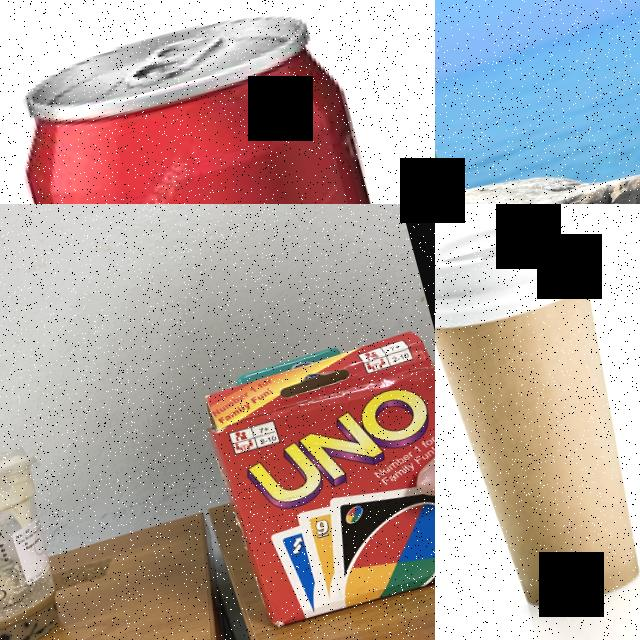can: (0, 0, 435, 204)
cup: (435, 204, 640, 634), (0, 438, 86, 640)
